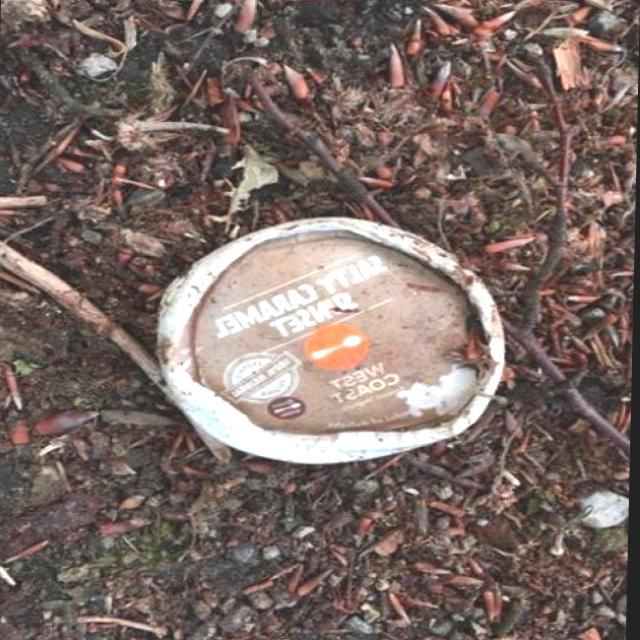Paper: (146, 214, 516, 468)
